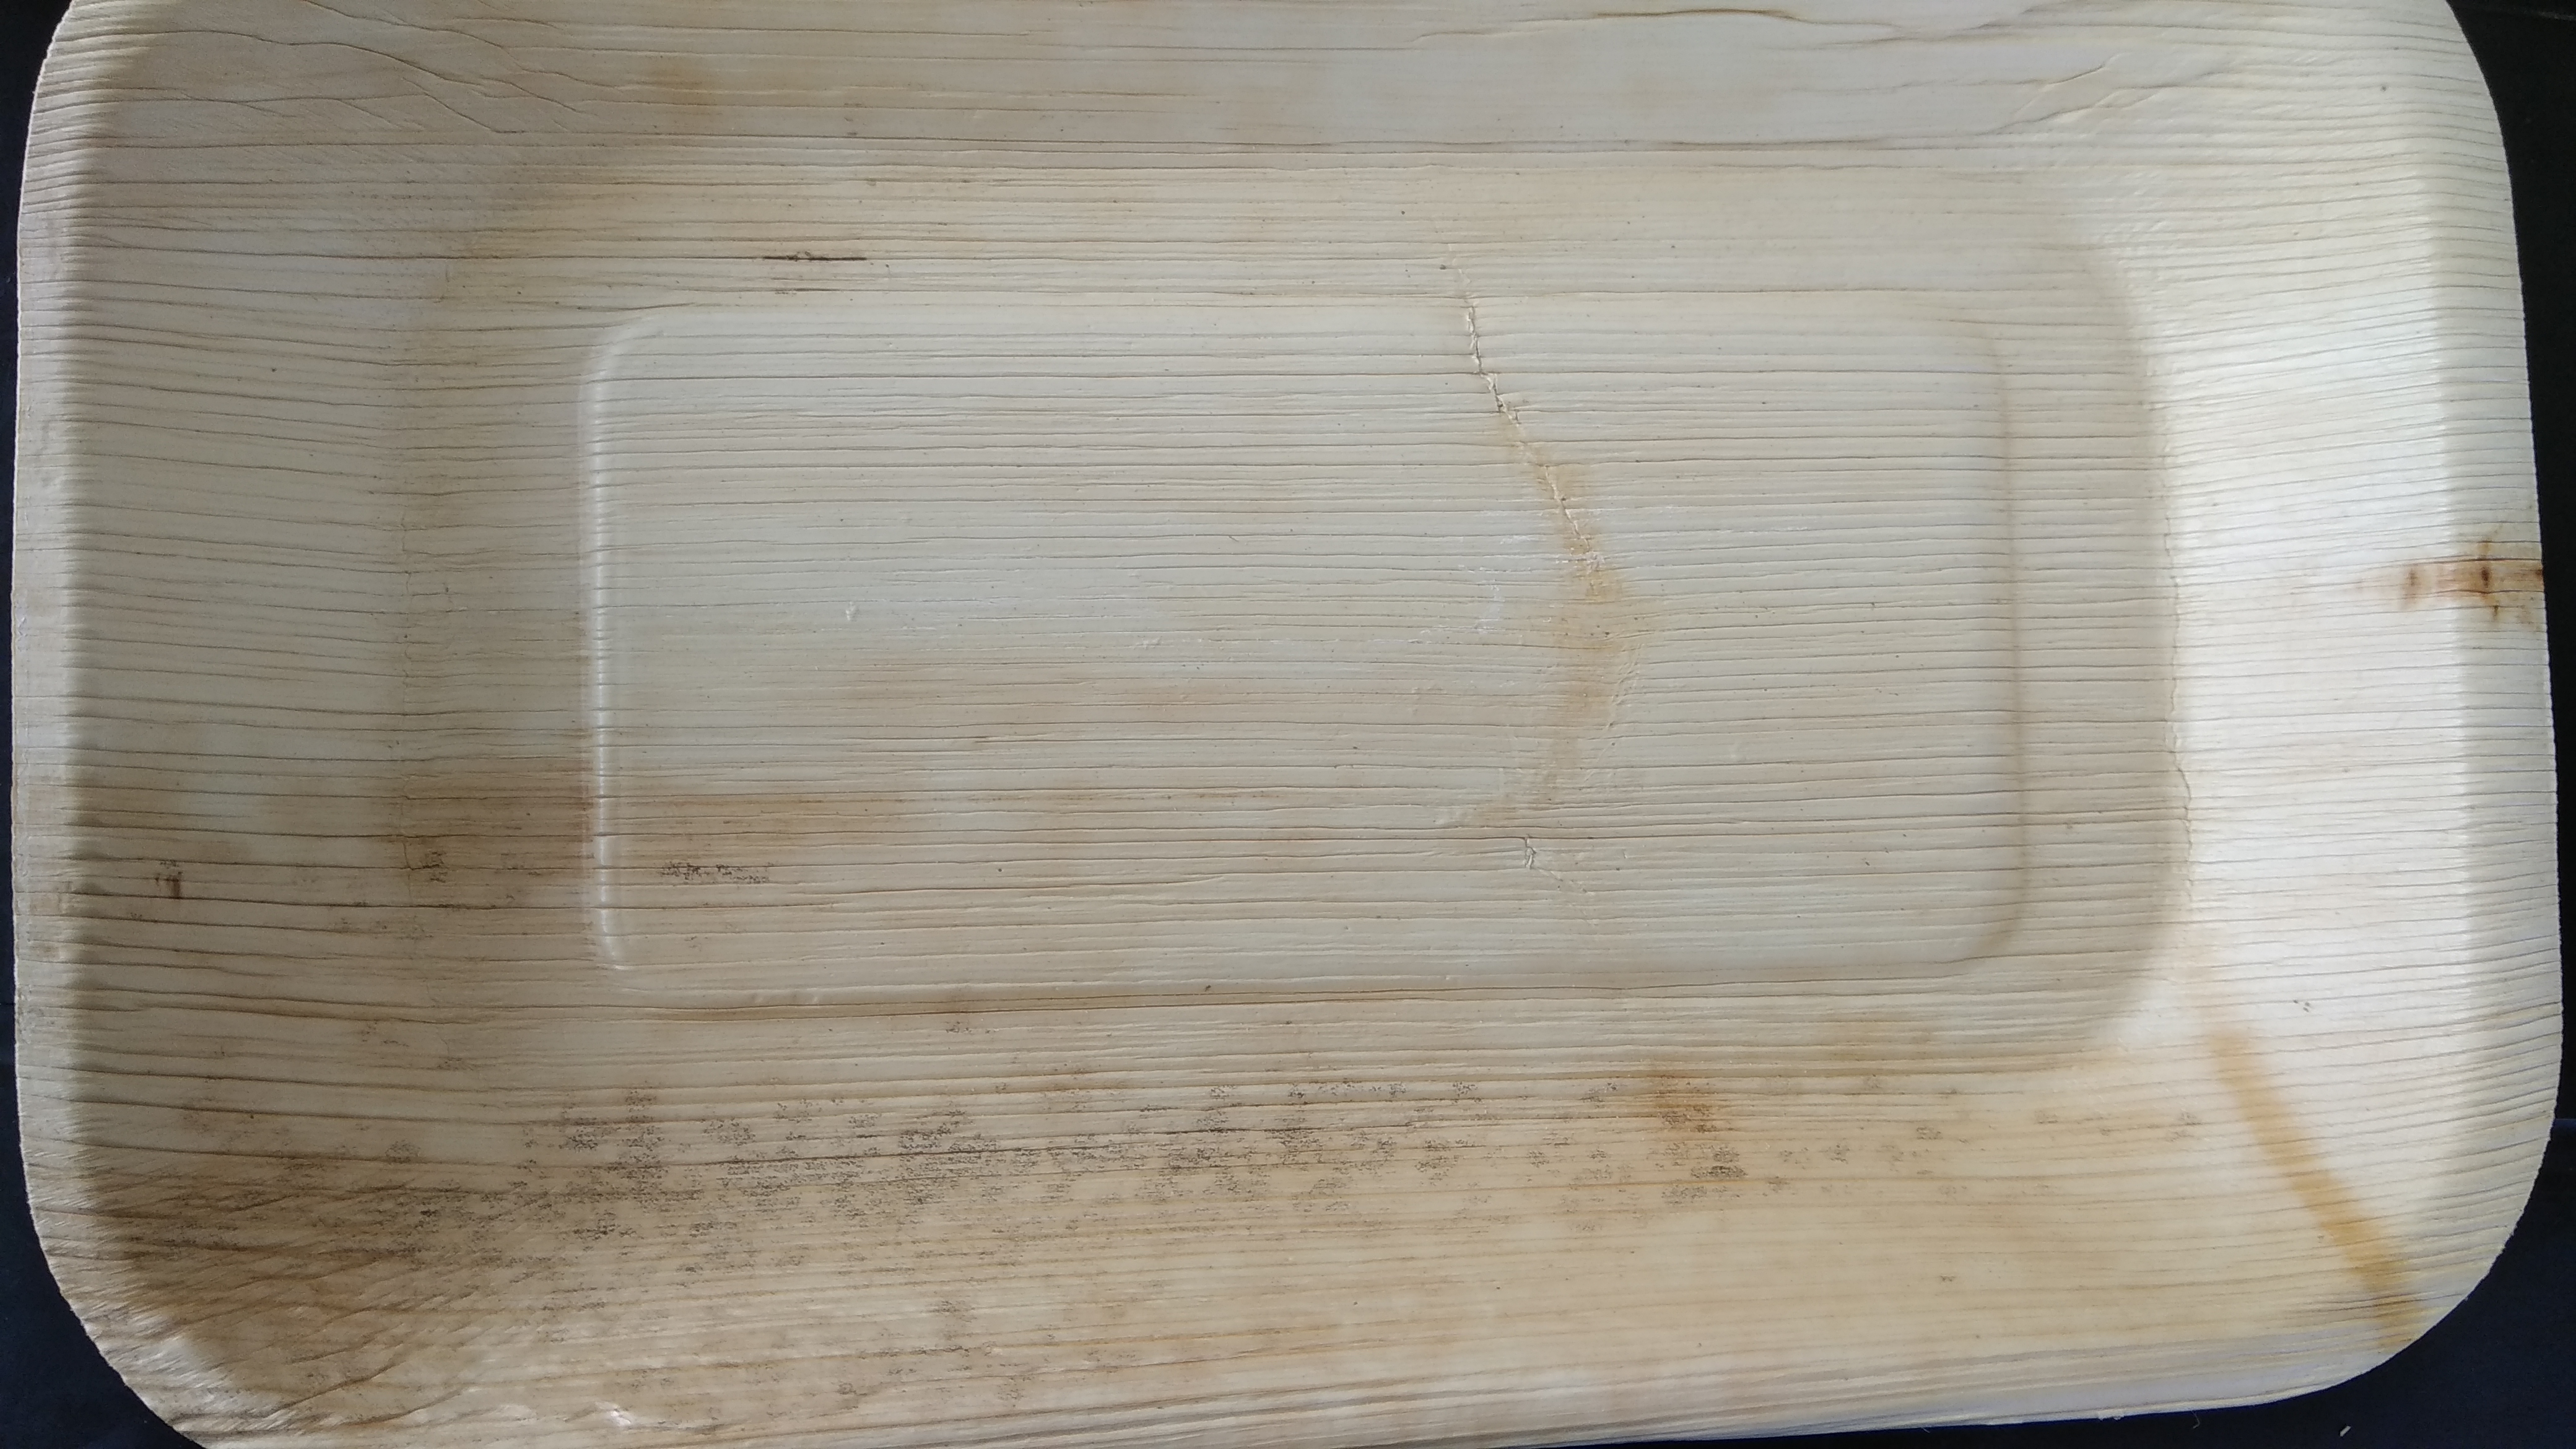areca plate: (27, 2, 2576, 1444)
